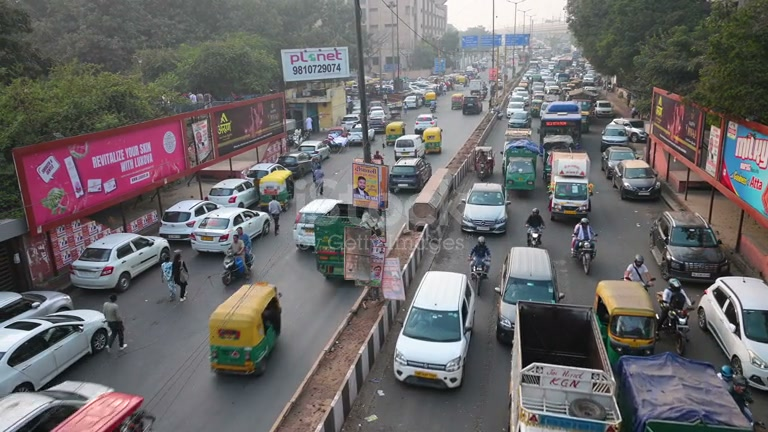bus: (539, 101, 584, 146), (503, 139, 540, 188)
car: (609, 352, 757, 431), (0, 308, 115, 400), (393, 270, 478, 390), (696, 276, 768, 392), (208, 281, 284, 377), (494, 246, 563, 345), (0, 379, 123, 431), (69, 231, 173, 292), (649, 210, 730, 283), (593, 279, 660, 356), (187, 206, 273, 253), (292, 197, 353, 251), (157, 198, 221, 241), (0, 289, 74, 326), (460, 181, 509, 235), (614, 159, 662, 201), (549, 178, 591, 222), (208, 178, 260, 209), (389, 158, 431, 193), (0, 290, 39, 325), (242, 162, 292, 185), (602, 147, 636, 180), (275, 152, 314, 180), (392, 135, 426, 162), (298, 140, 332, 162), (600, 125, 630, 149), (326, 128, 351, 151)
motorcycle: (222, 246, 254, 286), (468, 237, 492, 281), (573, 235, 597, 276), (468, 254, 491, 286)
pedestrian: (658, 278, 693, 332), (103, 293, 127, 351), (468, 235, 492, 278), (160, 253, 181, 302), (624, 254, 655, 287), (571, 216, 596, 251), (172, 252, 190, 300), (525, 207, 545, 247), (229, 226, 251, 258), (267, 196, 283, 234), (311, 162, 325, 197)
truck: (511, 300, 622, 430), (610, 351, 758, 430), (208, 281, 284, 377), (314, 208, 388, 285), (351, 158, 390, 212), (540, 101, 583, 144)
